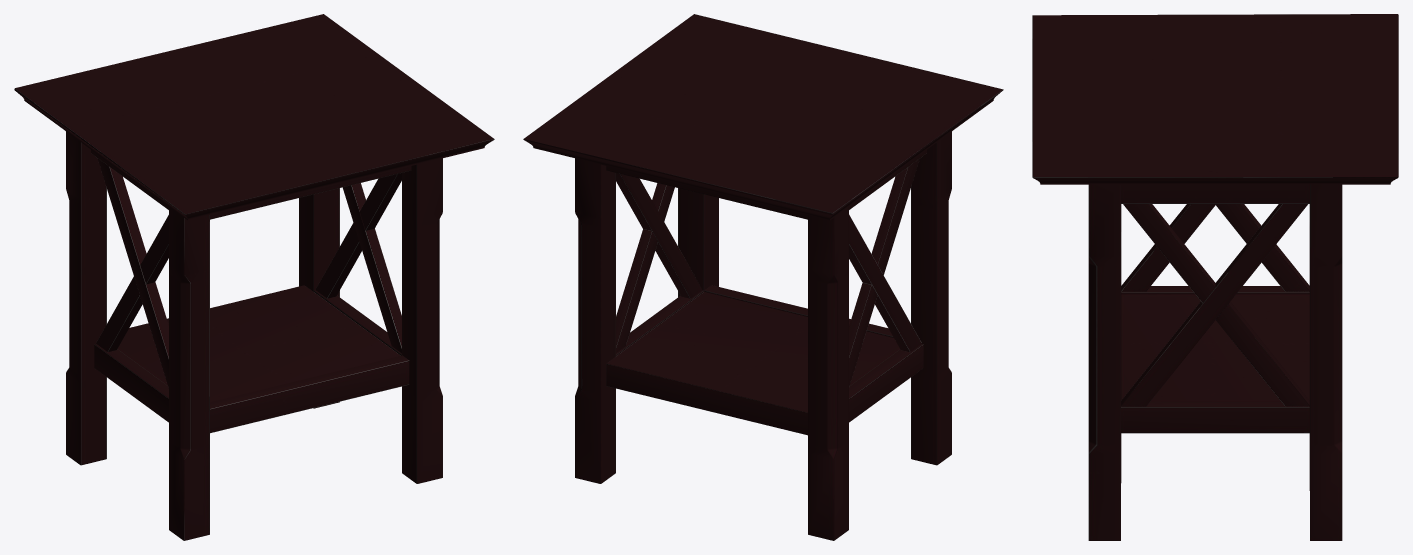
3 views of the same model, side by side, from view 1: azimuth 30°, elevation 25°; view 2: azimuth 150°, elevation 25°; view 3: azimuth 270°, elevation 25° (orthographic). The views are drawn at different scales.
Visible parts, largest first — view 1: 55566; view 2: 55566; view 3: 55566.
Boxes of the visible parts, x1,y1,x2,y2 form: 55566: (14,14,494,540); 55566: (523,14,1003,540); 55566: (1032,14,1398,540).
Size of the model in its own units: 0.508 by 0.5542 by 0.4859.
1 material, 1 textured.
